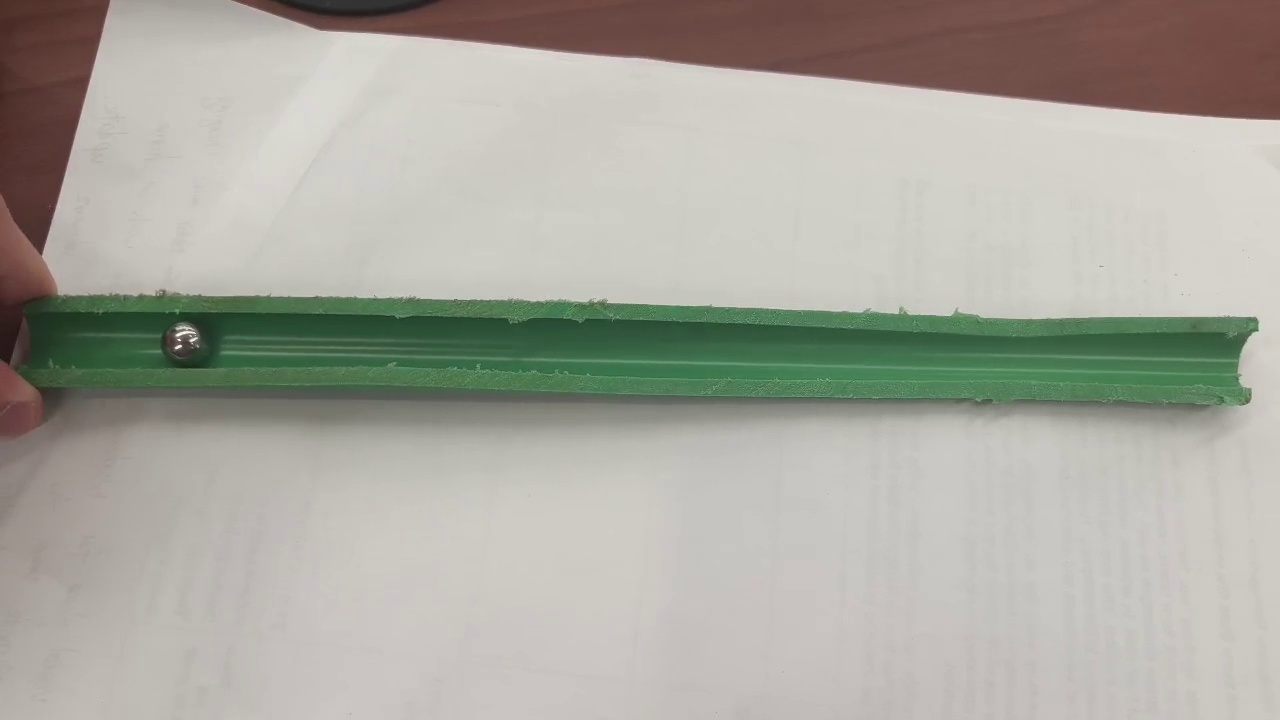ball: (163, 323, 202, 359)
